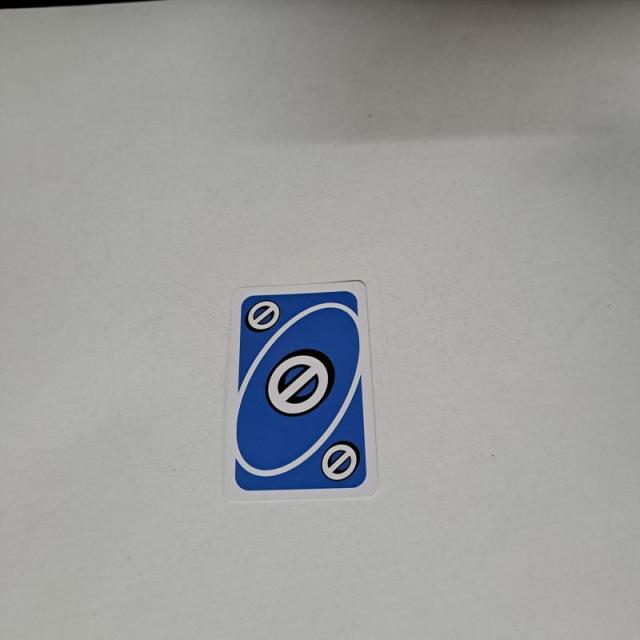Blue_Card: (232, 288, 369, 493)
Skip: (247, 297, 281, 332)
